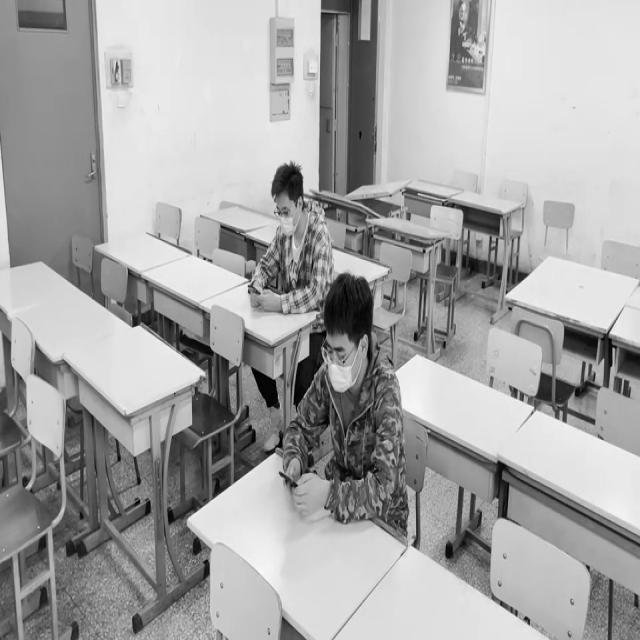phone: (283, 317, 396, 518), (251, 169, 320, 310)
